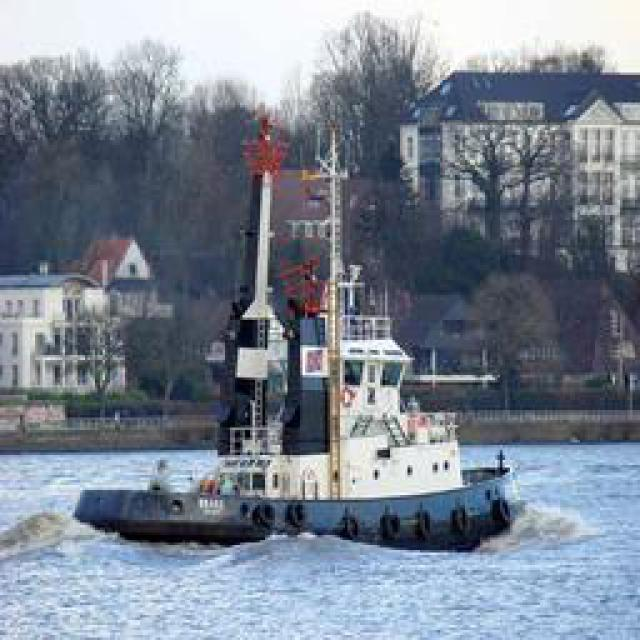Ship: (101, 171, 521, 551)
